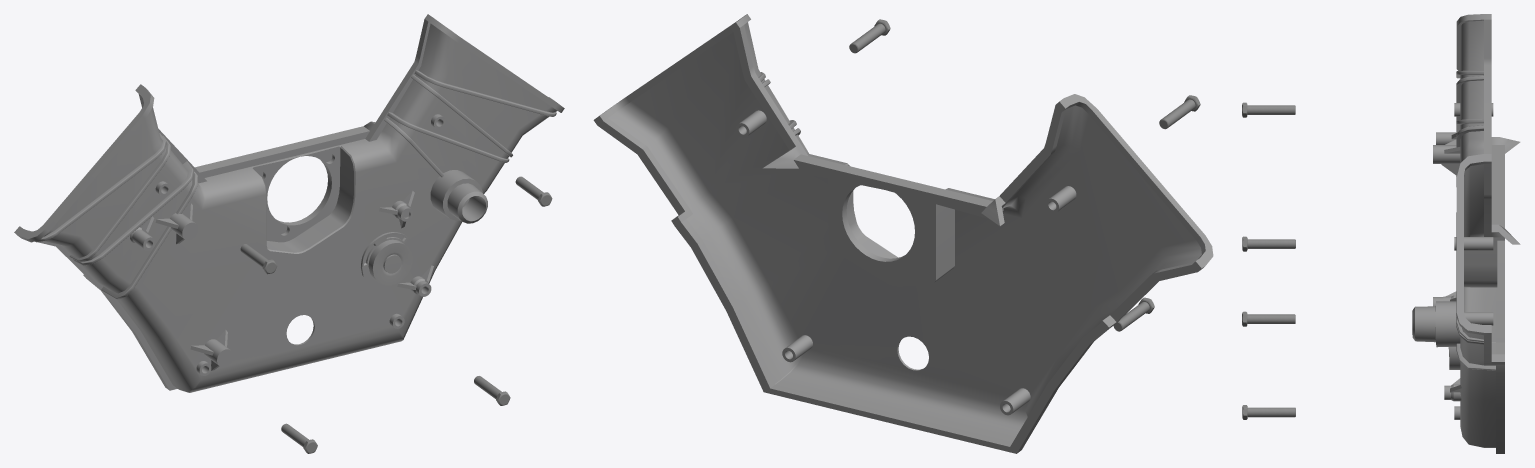
The model's file is timingCover.glb.
3 renders of one model, left to right at view 1: azimuth 30°, elevation 25°; view 2: azimuth 150°, elevation 25°; view 3: azimuth 270°, elevation 25°, orthographic. The views are drawn at different scales.
Parts seen in each view (by area): view 1: v8_coyote_oslona_rozrzadu(0); view 2: v8_coyote_oslona_rozrzadu(0); view 3: v8_coyote_oslona_rozrzadu(0), Obj_srubaSilnikDluga1, srubaSilnikDluga_0, Obj_srubaSilnikDluga_0, Obj_srubaSilnikDluga1_1.
Boxes of the visible parts, x1,y1,x2,y2 form: v8_coyote_oslona_rozrzadu(0): (14, 14, 564, 392); v8_coyote_oslona_rozrzadu(0): (593, 14, 1213, 453); v8_coyote_oslona_rozrzadu(0): (1412, 14, 1520, 453); Obj_srubaSilnikDluga1: (1242, 405, 1295, 419); srubaSilnikDluga_0: (1242, 236, 1295, 251); Obj_srubaSilnikDluga_0: (1242, 102, 1295, 117); Obj_srubaSilnikDluga1_1: (1242, 311, 1295, 326).
Size of the model in its own units: 0.0133 by 0.00742 by 0.00595.
2 materials, 1 textured.
